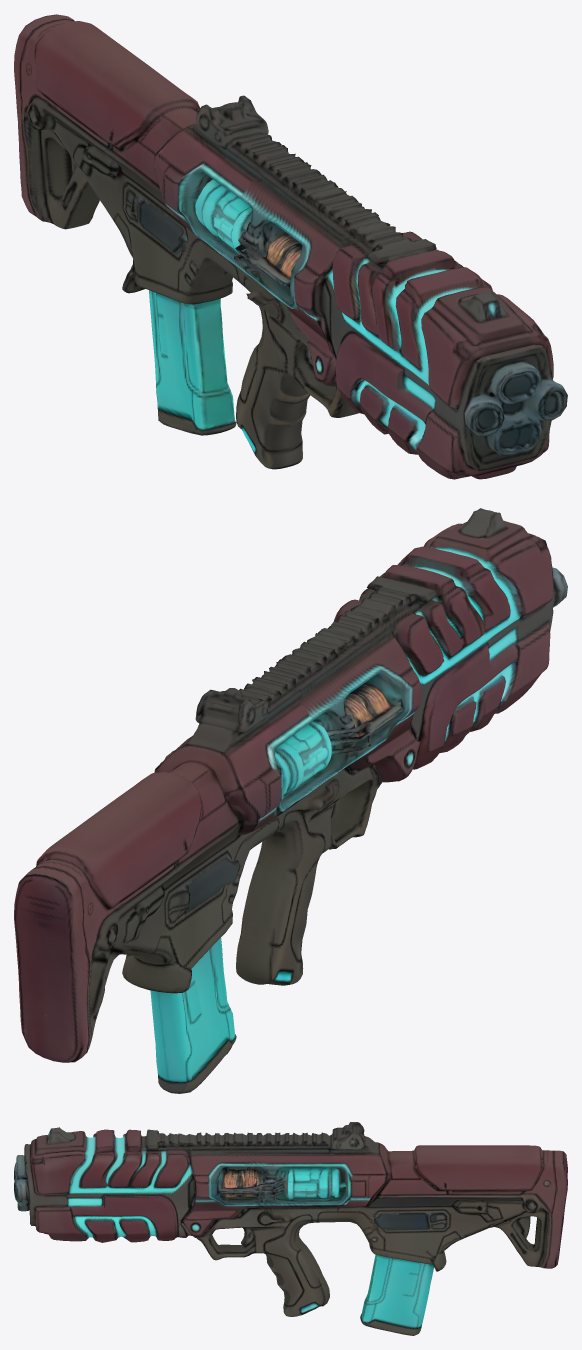
The model's file is lod_root_bio_carbine.fbx.
3 views of the same model, one above another, from view 1: azimuth 30°, elevation 25°; view 2: azimuth 150°, elevation 25°; view 3: azimuth 270°, elevation 25° (orthographic). The views are drawn at different scales.
Visible parts, largest first — view 1: model_LOD0; view 2: model_LOD0; view 3: model_LOD0.
Part boxes in pixels (box(x1,y1,x2,y2)): model_LOD0: box(14, 14, 567, 479); model_LOD0: box(14, 508, 567, 1093); model_LOD0: box(14, 1122, 567, 1335).
Size of what is drawn, in the model's own units: 29.44 by 78.26 by 190.
